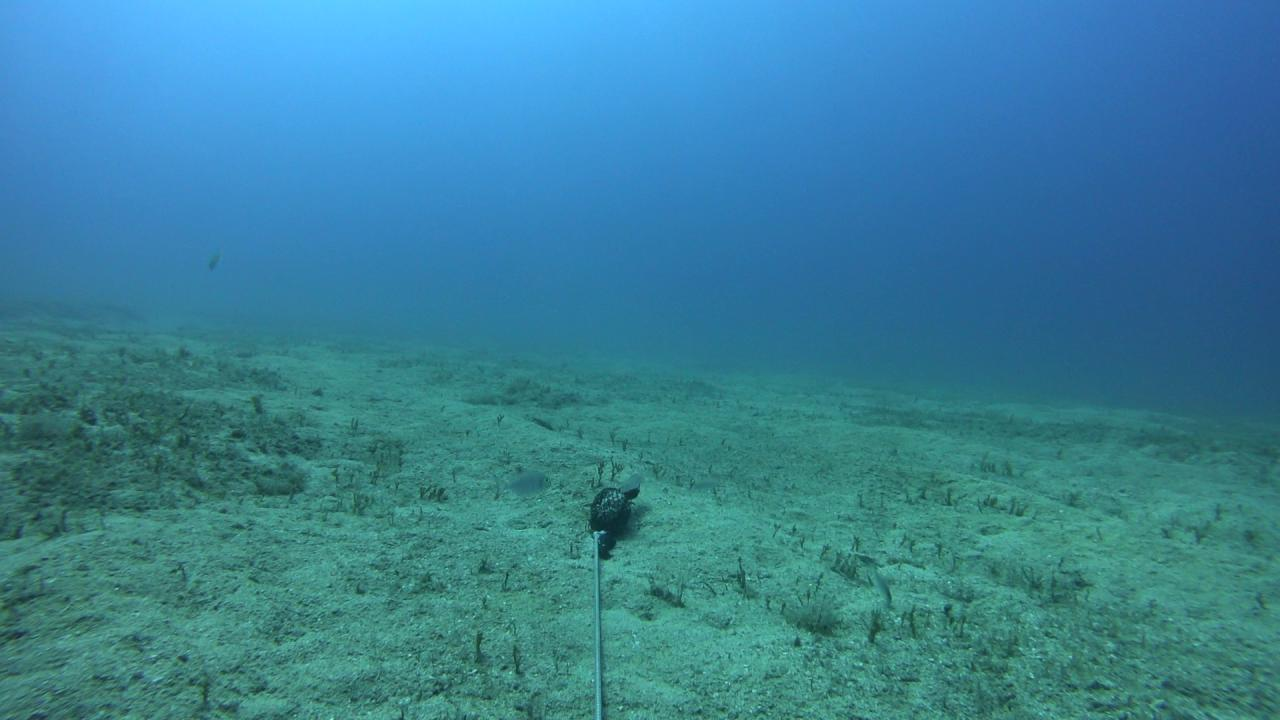pagellus: (492, 467, 552, 503), (871, 564, 895, 608), (617, 469, 647, 491)
